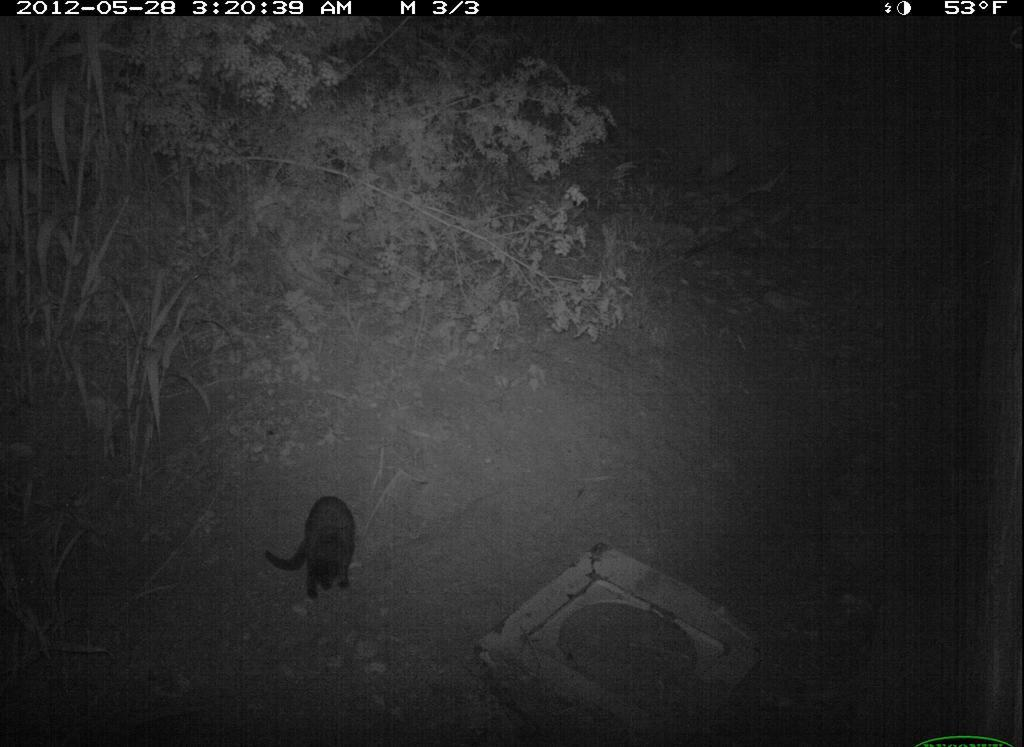cat: (269, 488, 367, 610)
